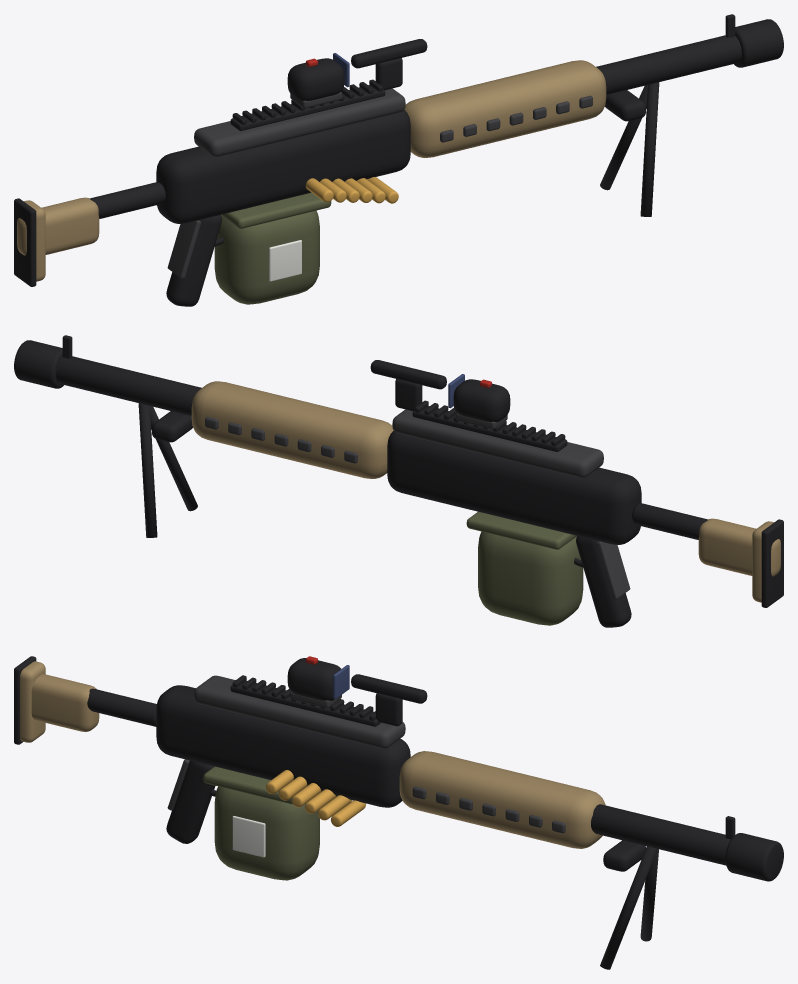
Rendered from rpk.glb.
3 views of the same model, one above another, from view 1: azimuth 30°, elevation 25°; view 2: azimuth 150°, elevation 25°; view 3: azimuth 330°, elevation 25° (orthographic).
Visible parts, largest first — view 1: lmg76; view 2: lmg76; view 3: lmg76.
Boxes of the visible parts, left/top/right/bottom form: lmg76: left=14, top=14, right=783, bottom=306; lmg76: left=14, top=335, right=783, bottom=627; lmg76: left=14, top=656, right=783, bottom=969.
Bounding box in the file's own units: 0.9292 × 0.2622 × 0.1119.
